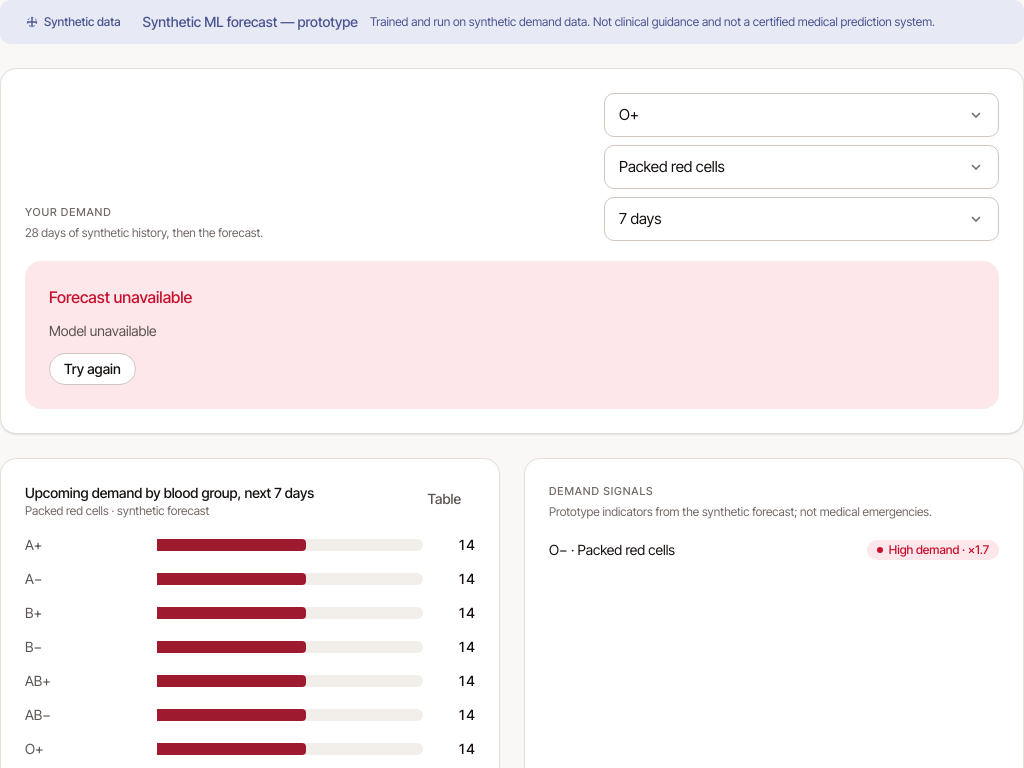
Test case: ForecastPanel › shows an error state with retry
Expected: the text "Forecast unavailable" is shown, [49,285,192,309]
What coordinates should you click on to do the following:
click the button "Try again"
I would click on:
 (92, 369)
Its box is [49,353,136,385].
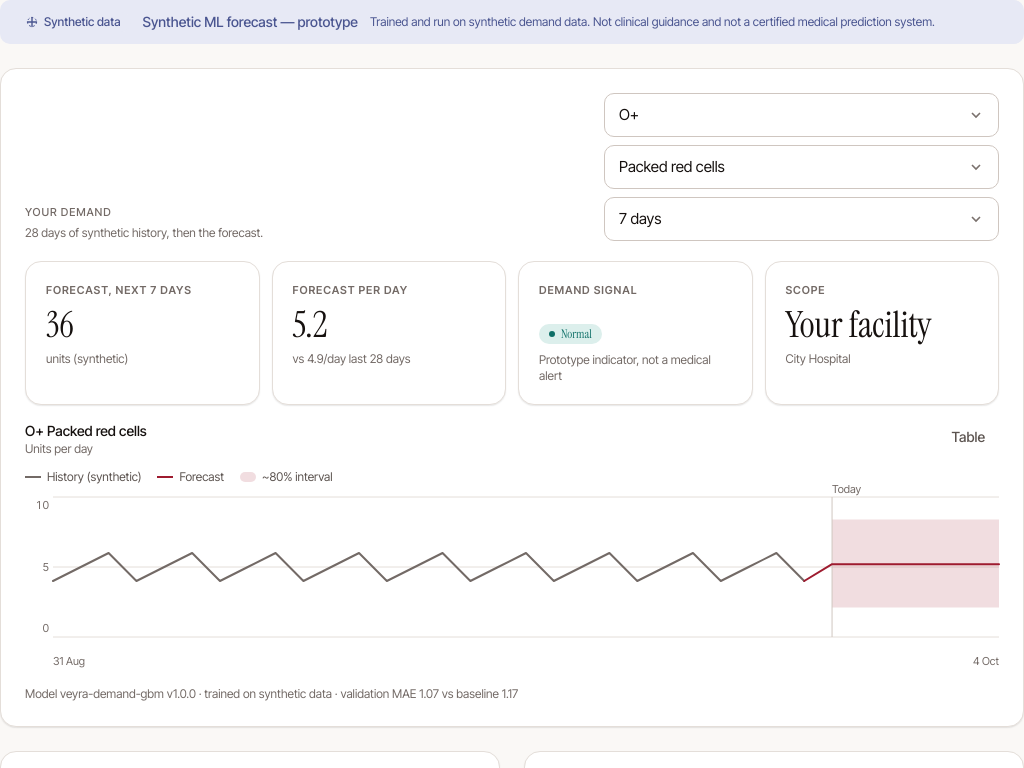
Expected: the text with test id "model-label" is shown, [25,686,518,701]
